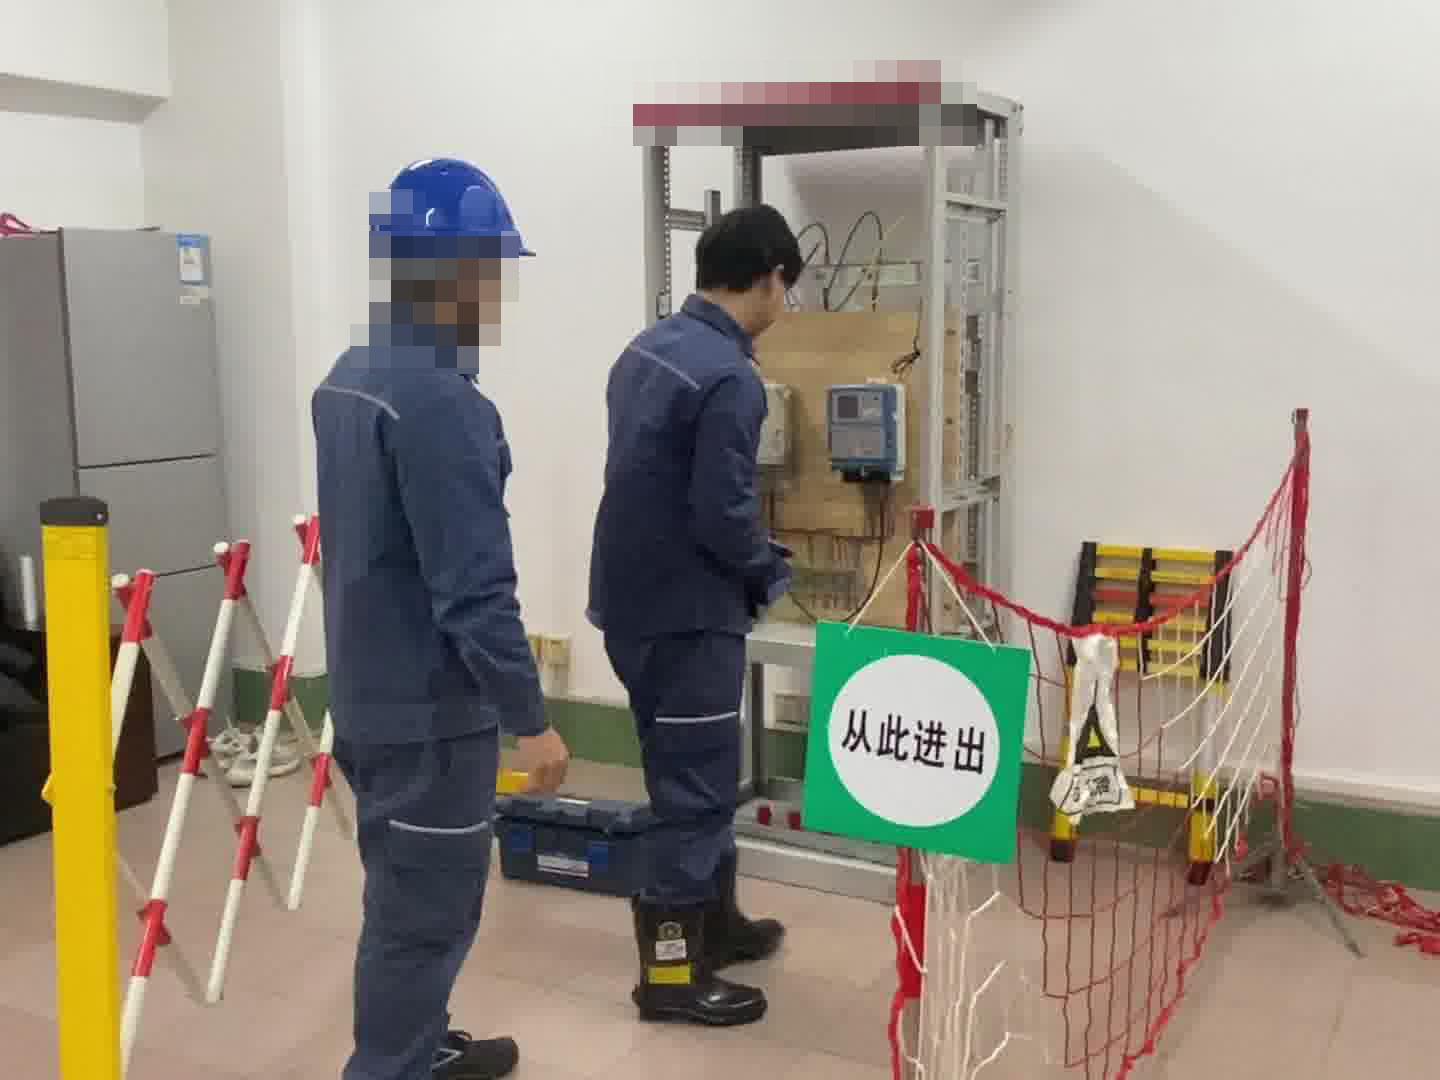downsuit: (326, 738, 504, 1080), (608, 634, 750, 910)
glove: (758, 537, 796, 609)
halt: (366, 155, 536, 342)
hand: (511, 731, 571, 794)
inear: (440, 249, 499, 338)
intosign: (805, 624, 1015, 852)
noear: (712, 265, 789, 332)
person: (295, 145, 568, 1080), (583, 202, 826, 996)
shoe: (629, 904, 767, 1021)
unhalt: (693, 207, 809, 335)
upsuit: (313, 334, 533, 726), (588, 312, 781, 633)
